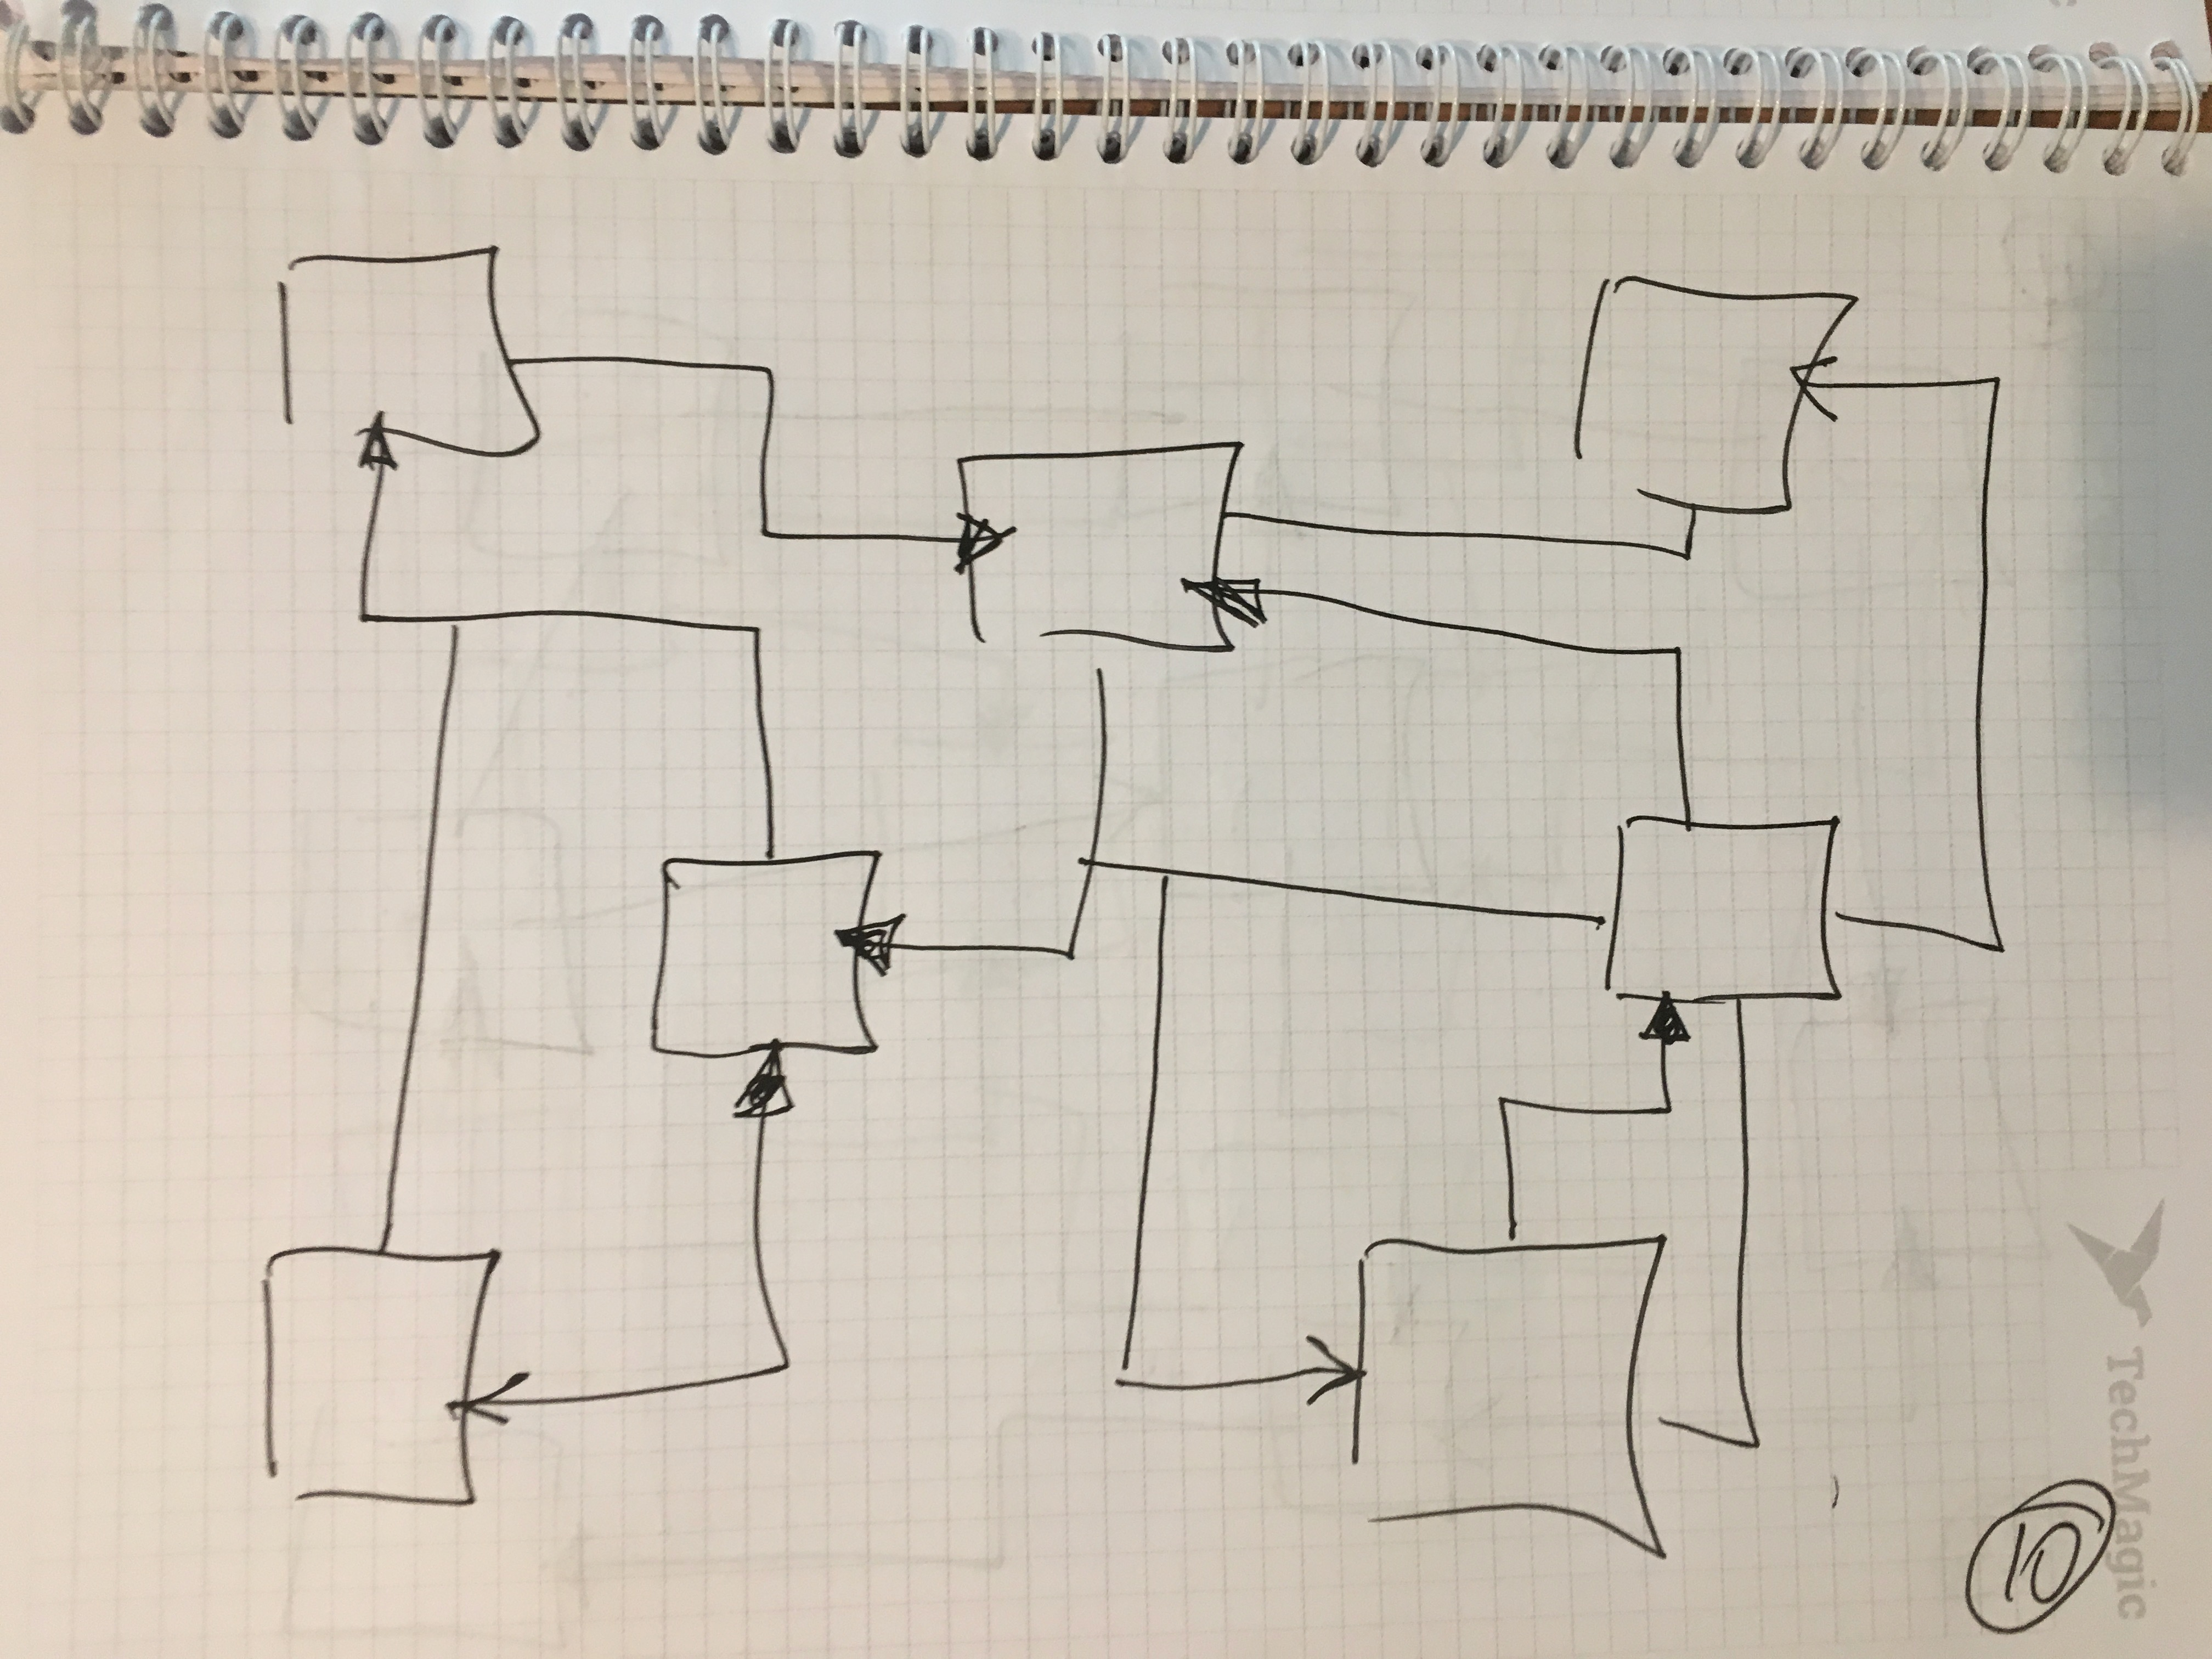arrow: (435, 1358, 599, 1432), (829, 906, 975, 986), (1165, 565, 1336, 633), (1766, 343, 1900, 429), (1263, 1333, 1385, 1422), (719, 1032, 803, 1141), (345, 392, 413, 518), (1632, 981, 1703, 1089), (921, 511, 1021, 580)
